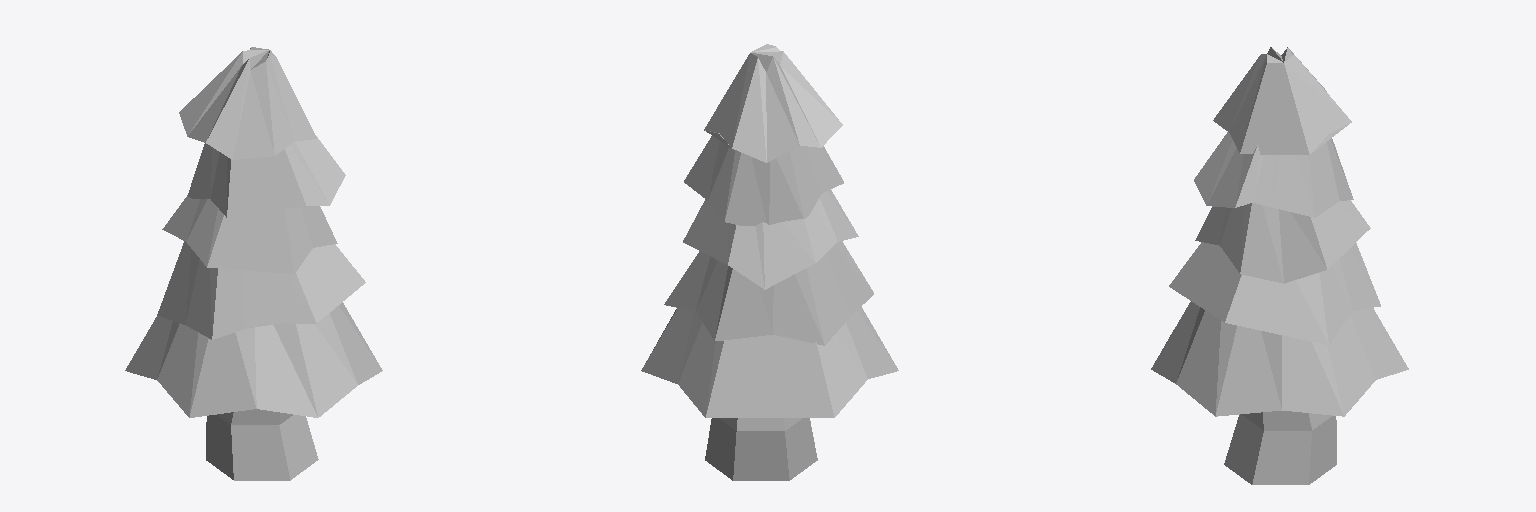
File: tree2.obj
The picture shows the model from 3 angles: view 1: azimuth 30°, elevation 25°; view 2: azimuth 150°, elevation 25°; view 3: azimuth 270°, elevation 25°; orthographic projection.
Parts seen in each view (by area): view 1: Cylinder.002, Cylinder.001, Cylinder.004, Cylinder.003, Cylinder.005, Cylinder; view 2: Cylinder.002, Cylinder.001, Cylinder.004, Cylinder.005, Cylinder.003, Cylinder; view 3: Cylinder.002, Cylinder.001, Cylinder.003, Cylinder.004, Cylinder.005, Cylinder.
Part boxes in pixels (left/top/right/bottom): Cylinder.002: left=125, top=302, right=382, bottom=417; Cylinder.001: left=157, top=241, right=365, bottom=339; Cylinder.004: left=179, top=47, right=316, bottom=159; Cylinder.003: left=162, top=195, right=337, bottom=273; Cylinder.005: left=188, top=136, right=345, bottom=217; Cylinder: left=206, top=409, right=318, bottom=480; Cylinder.002: left=641, top=306, right=898, bottom=417; Cylinder.001: left=664, top=241, right=873, bottom=345; Cylinder.004: left=704, top=44, right=842, bottom=162; Cylinder.005: left=684, top=136, right=843, bottom=225; Cylinder.003: left=683, top=189, right=858, bottom=289; Cylinder: left=705, top=418, right=817, bottom=480; Cylinder.002: left=1151, top=301, right=1408, bottom=416; Cylinder.001: left=1169, top=242, right=1380, bottom=344; Cylinder.003: left=1195, top=200, right=1370, bottom=283; Cylinder.004: left=1213, top=47, right=1351, bottom=154; Cylinder.005: left=1194, top=132, right=1353, bottom=217; Cylinder: left=1224, top=411, right=1336, bottom=484.
Bounding box in the file's own units: 3.23 × 6.38 × 3.63.